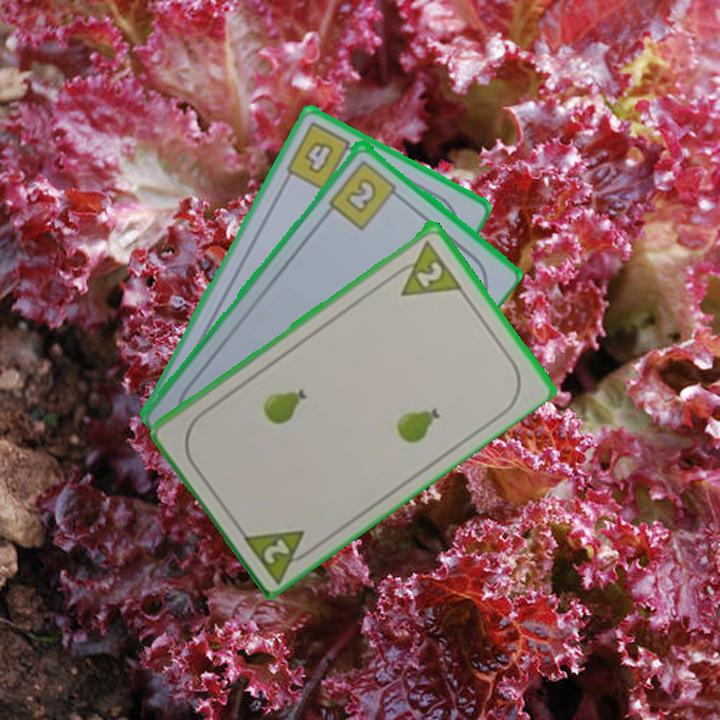2b: (325, 156, 405, 232)
2p: (386, 236, 464, 299), (238, 525, 320, 584)
4b: (282, 118, 362, 193)
